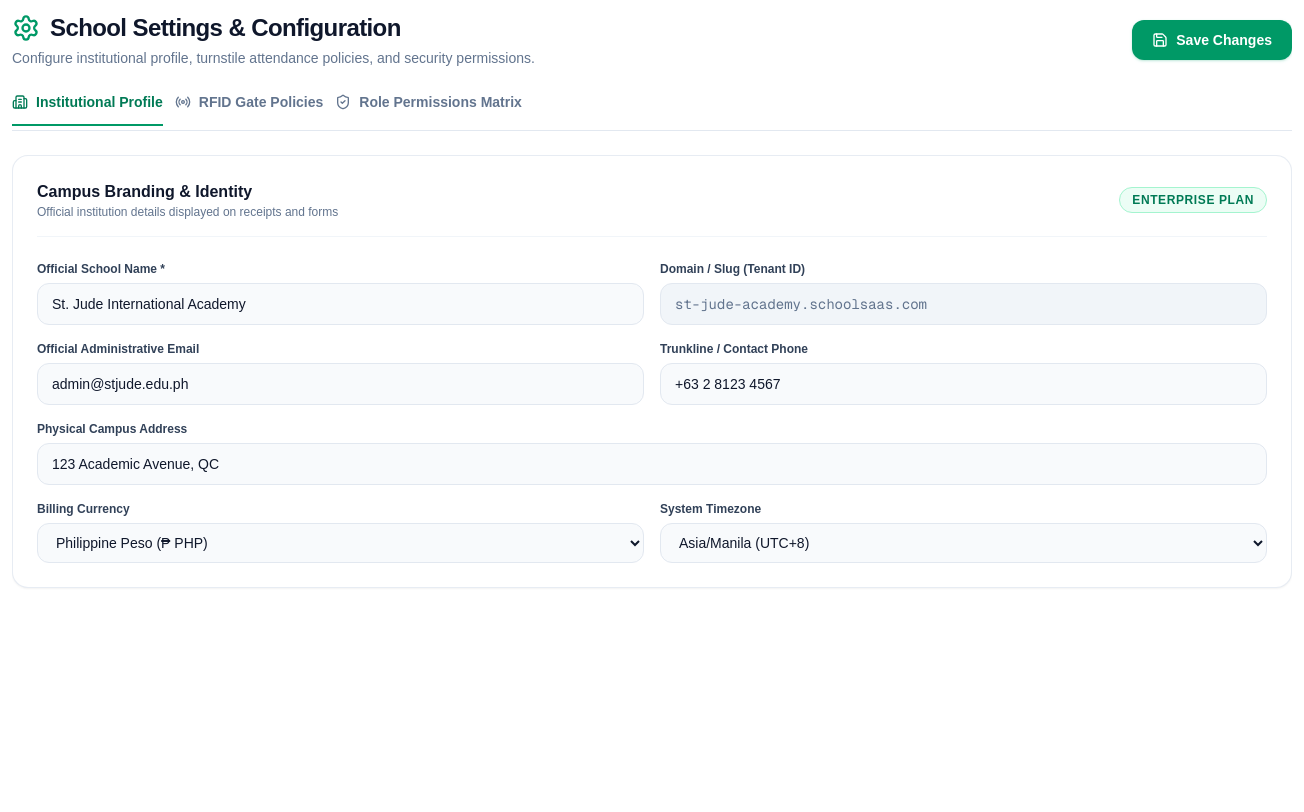
Scenario: SettingsPage › switches to Role Permissions Matrix tab
What coordinates should you click on to do the following:
click the button "Role Permissions Matrix"
I would click on:
 (429, 109)
Its box is [335, 92, 522, 126].
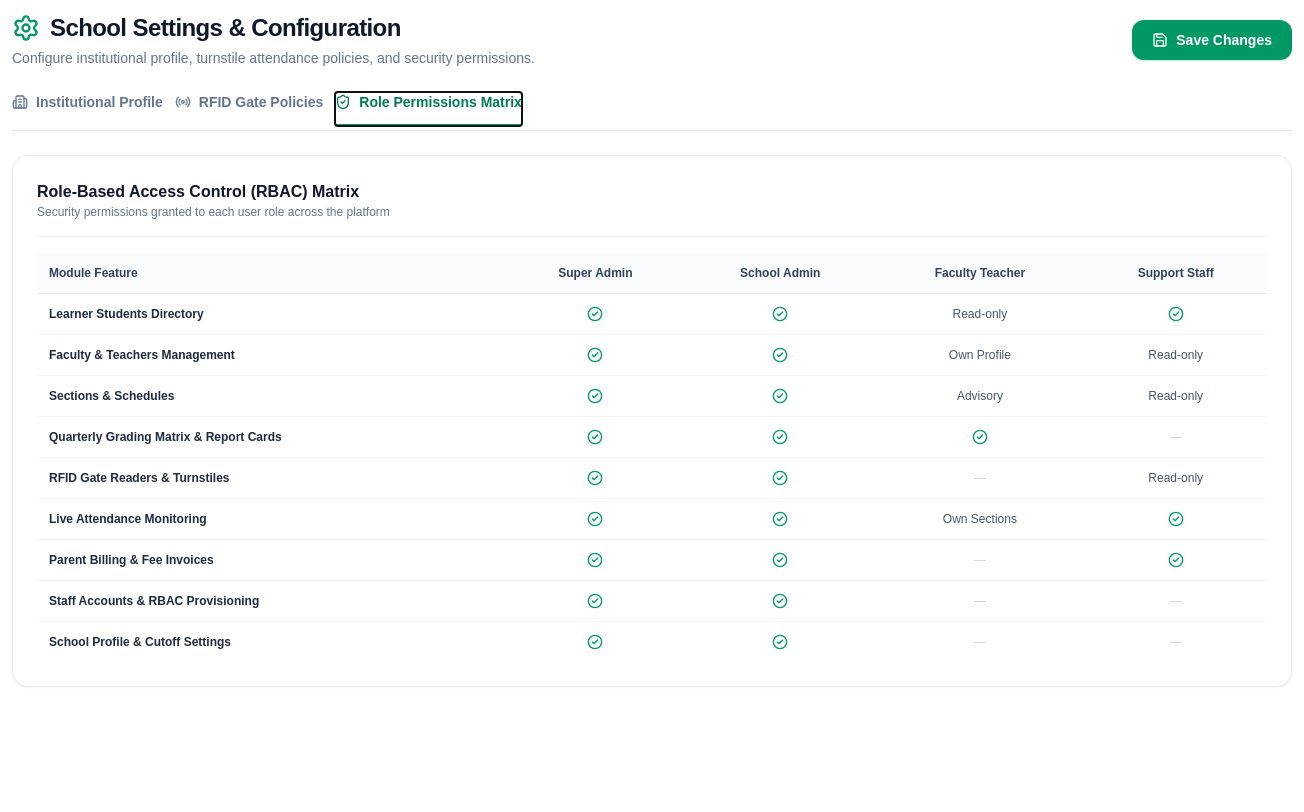
Result: the heading "Role-Based Access Control (RBAC) Matrix" is shown at [37, 183, 359, 200]
Result: the text "Learner Students Directory" is shown at [37, 294, 506, 334]
